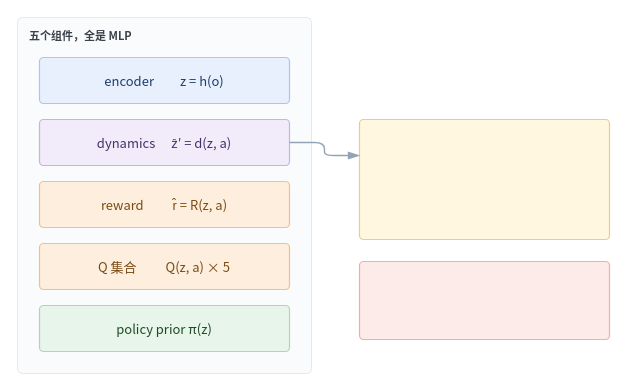
Some shapes in this 628 by 391 pixel diagram are drawn without their labels. Each missing label, with the centre of its shape:
损失 = ‖ẑ′ − sg(h_target(o′))‖² + reward 误差 + TD 误差 自监督一致性取代重建: the point at 484,179
没有 decoder 没有 KL 没有随机隐变量: the point at 484,300
